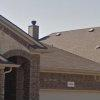Chimney: (24, 13, 48, 48)
